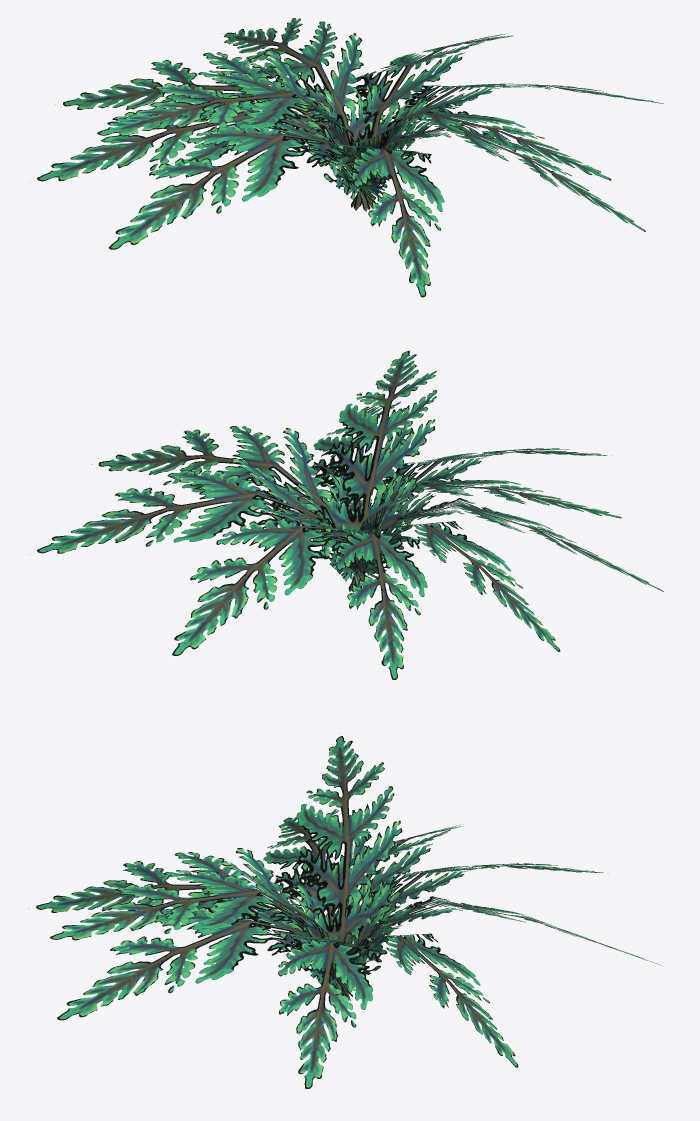
The model's file is Fougere.FBX.
3 views of the same model, one above another, from view 1: azimuth 30°, elevation 25°; view 2: azimuth 150°, elevation 25°; view 3: azimuth 270°, elevation 25° (orthographic).
Parts seen in each view (by area): view 1: Fougere015D005; view 2: Fougere015D005; view 3: Fougere015D005.
Part boxes in pixels (x1,y1,x2,y2): Fougere015D005: [28, 18, 671, 303]; Fougere015D005: [28, 348, 671, 686]; Fougere015D005: [28, 732, 661, 1095].
Bounding box in the file's own units: 368 × 89.39 × 360.
